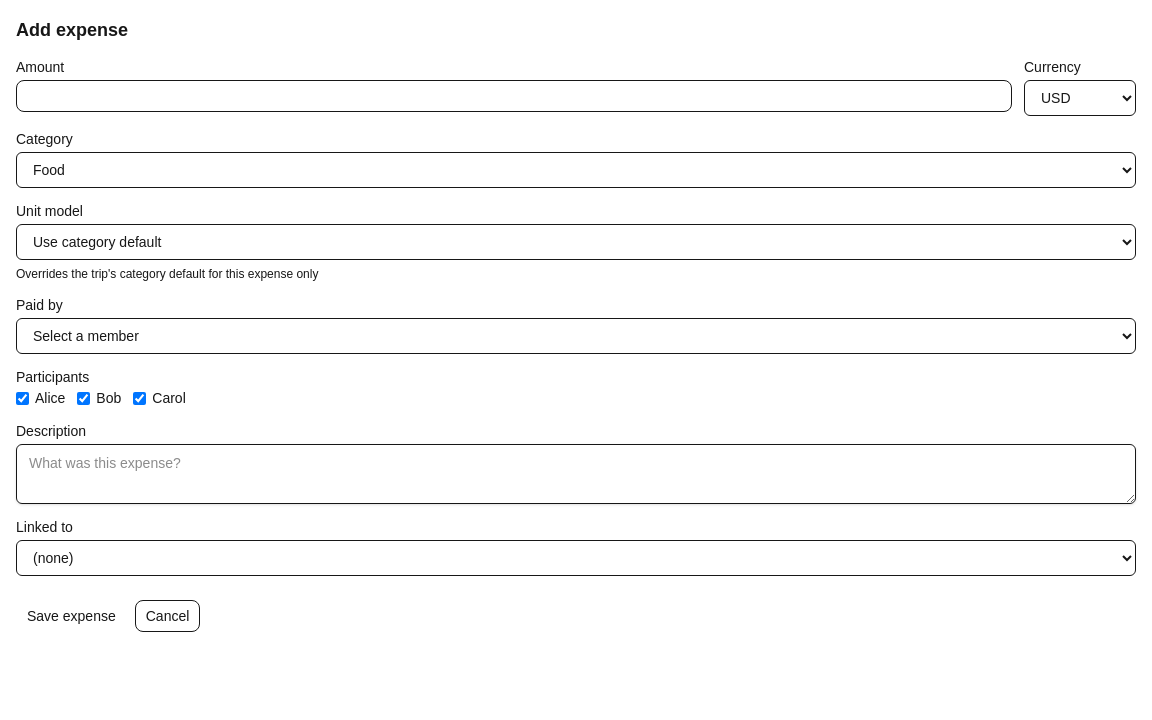
ExpenseEntryFormView — amount validation › shows amount-invalid error when amount is zero or negative
Type "0" into the number field labelled "Amount" at (514, 96), box [16,80,1012,112]
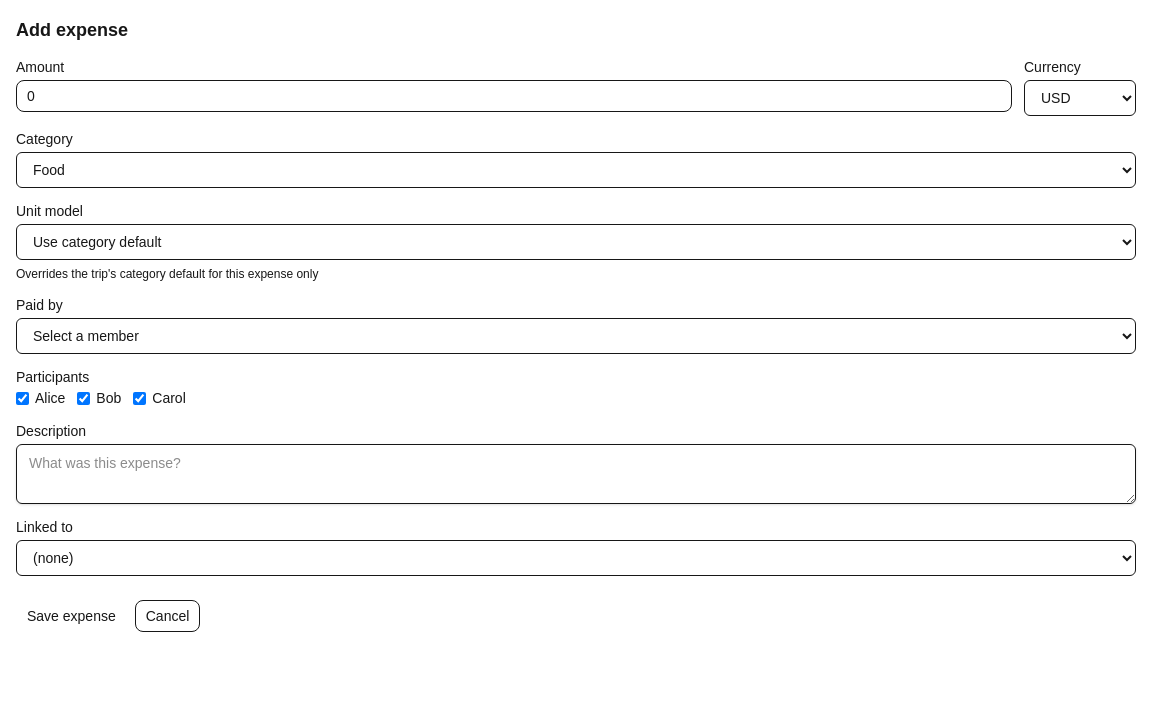
Submit the form with test id "expense-entry-form"
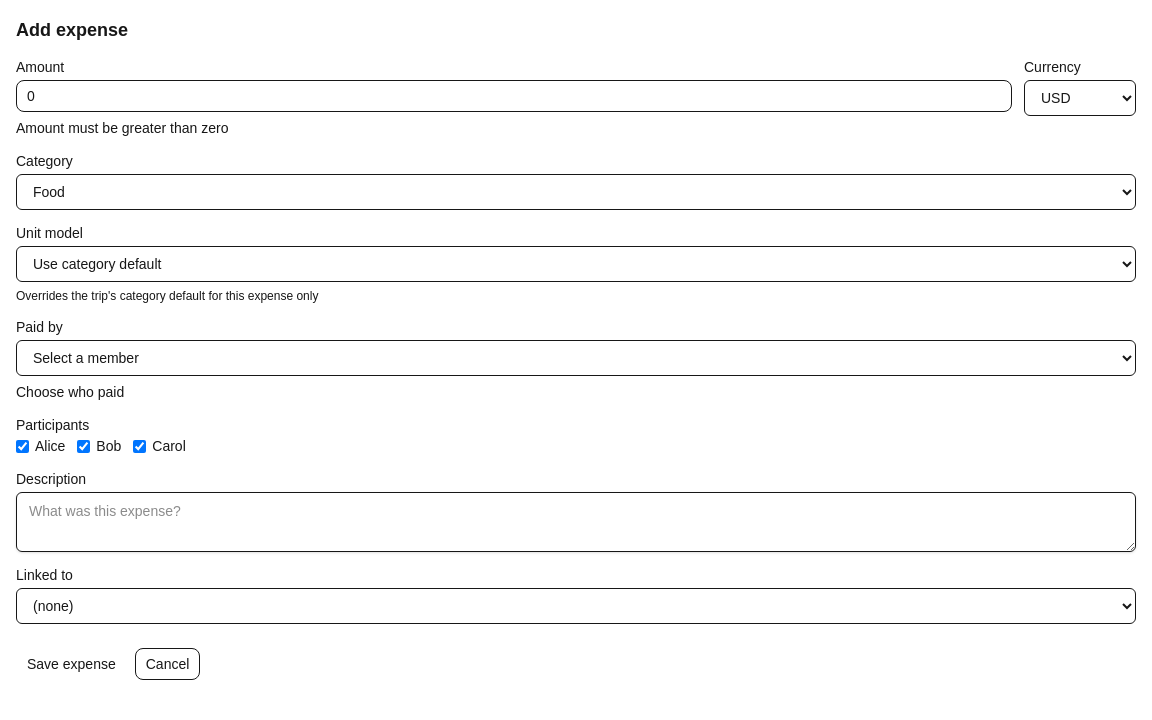
Check: the text "Amount must be greater than zero" is shown, box [16,120,228,136]
